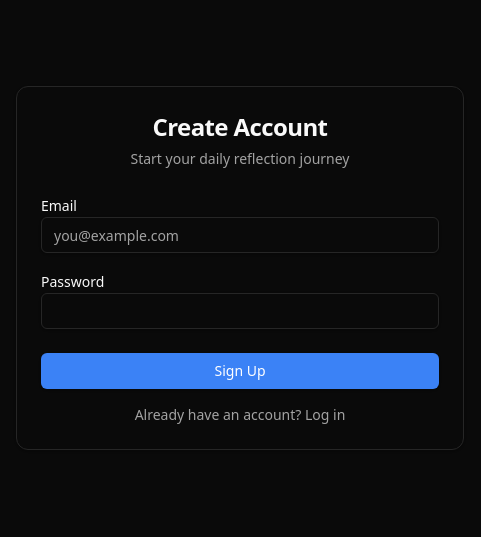
SignupPage › shows password strength indicator
Type "SecurePass123!" into the password field labelled "Password" at point(240, 311), box [41,293,439,329]
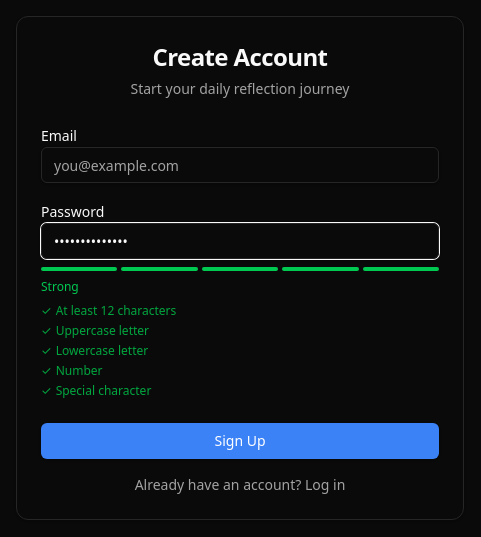
Check: the text "Strong" is shown, box [41,278,79,295]
